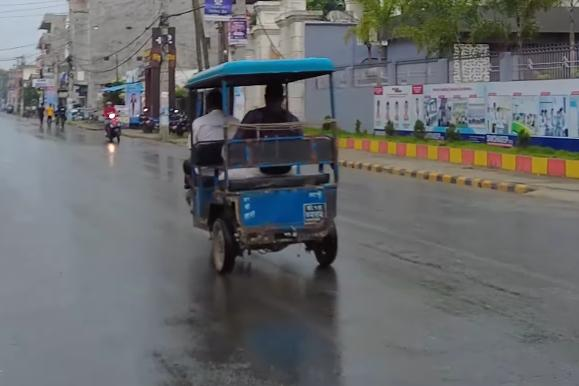e-rickshaw: (176, 54, 353, 286)
